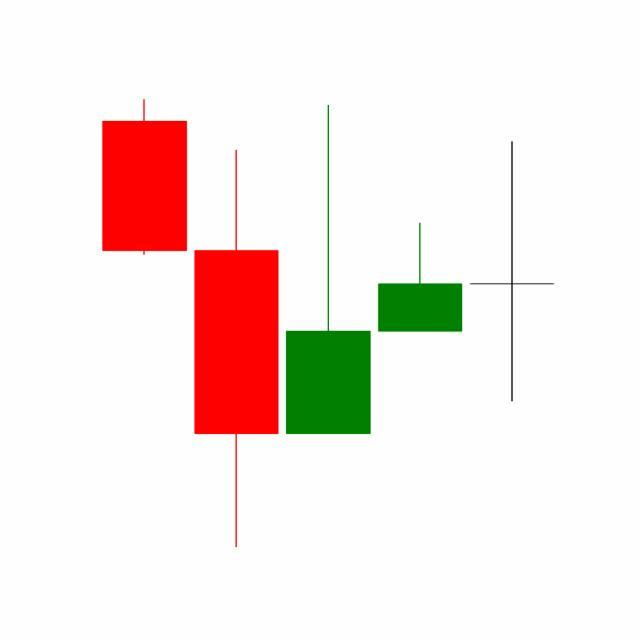Spinning Top: (466, 140, 559, 406)
